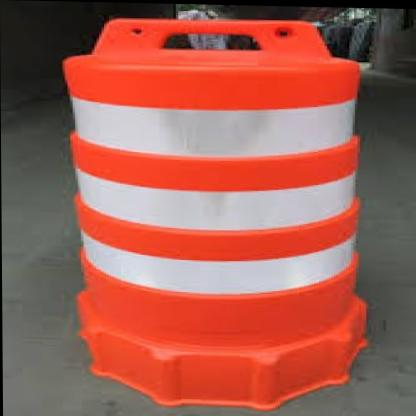obstacle: (72, 28, 373, 360)
